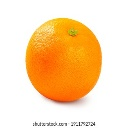orange: (24, 16, 103, 106)
